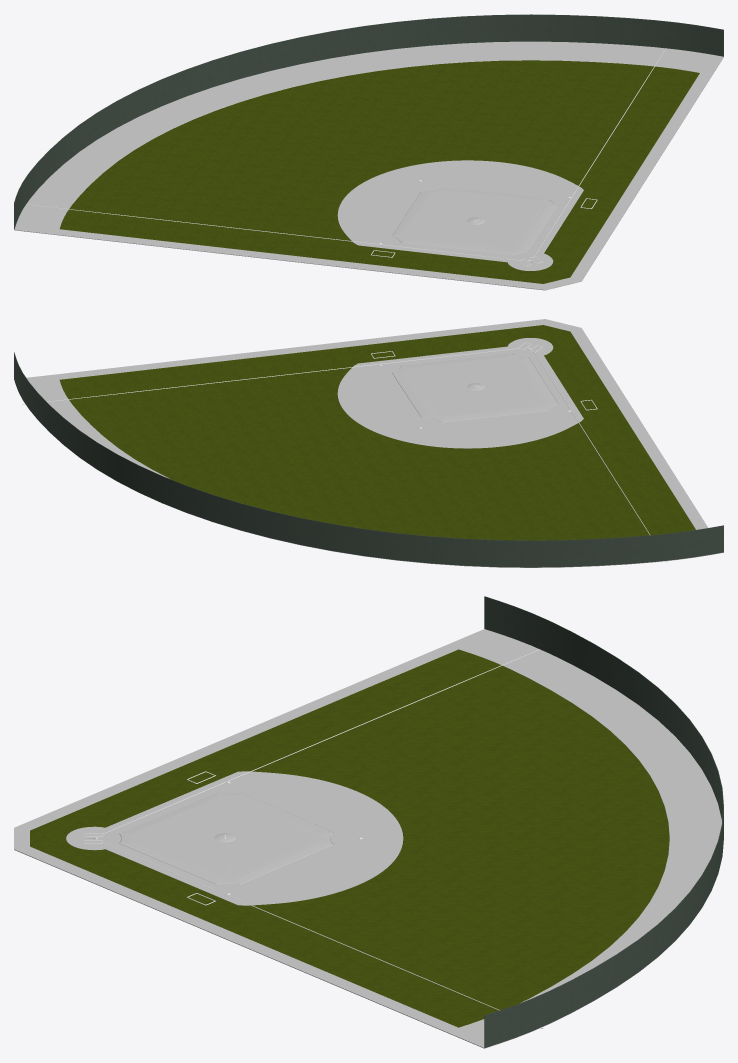
File: BaseballField.fbx
The picture shows the model from 3 angles, top to bottom: view 1: azimuth 30°, elevation 25°; view 2: azimuth 150°, elevation 25°; view 3: azimuth 270°, elevation 25°; orthographic projection. The views are drawn at different scales.
Parts seen in each view (by area): view 1: BaseballField; view 2: BaseballField; view 3: BaseballField.
Boxes of the visible parts, x1=… form: BaseballField: x1=14, y1=14, x2=723, y2=290; BaseballField: x1=14, y1=319, x2=723, y2=567; BaseballField: x1=14, y1=596, x2=723, y2=1048.
Size of the model in its own units: 14367 by 597 by 10279.
